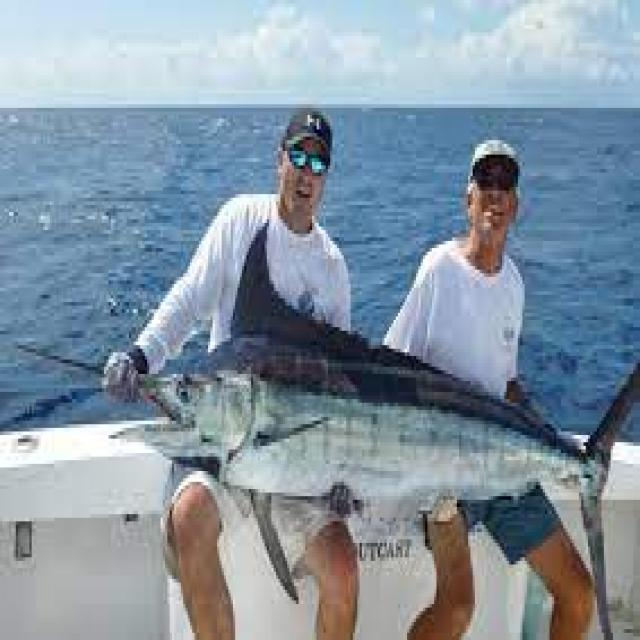Liberacion no segura: (16, 216, 640, 636)
